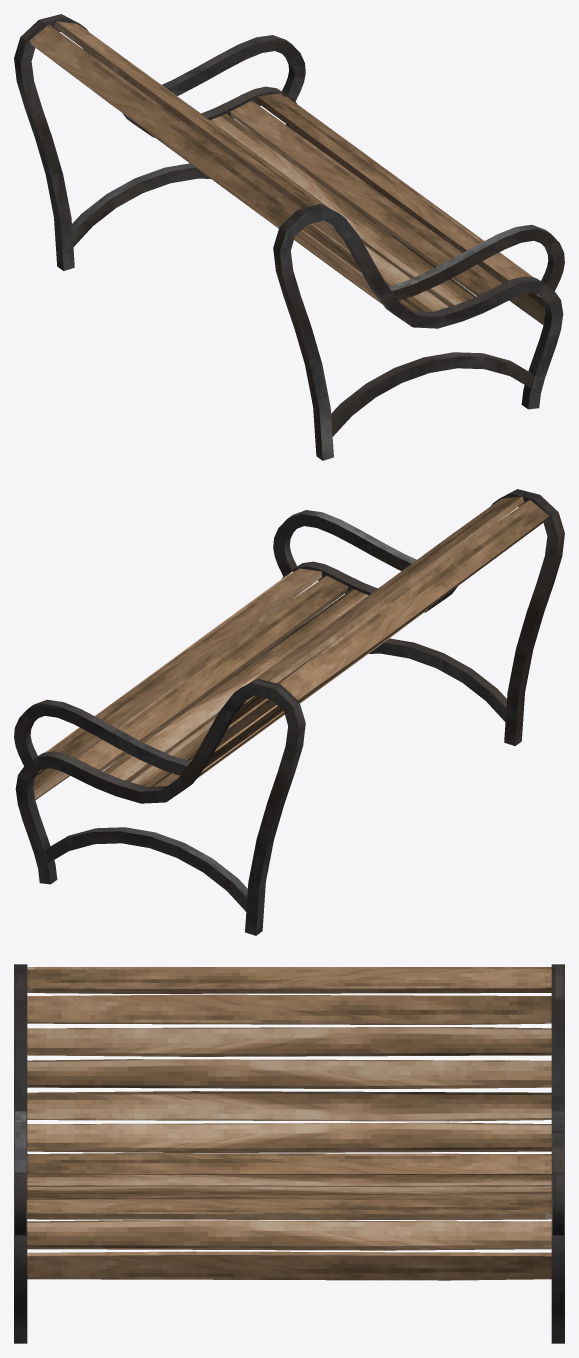
Rendered from Bench01.fbx.
3 views of the same model, one above another, from view 1: azimuth 30°, elevation 25°; view 2: azimuth 150°, elevation 25°; view 3: azimuth 270°, elevation 25° (orthographic). The views are drawn at different scales.
Parts seen in each view (by area): view 1: Bench01; view 2: Bench01; view 3: Bench01.
Part boxes in pixels (x1,y1,x2,y2): Bench01: [14, 14, 564, 460]; Bench01: [14, 489, 564, 935]; Bench01: [14, 964, 564, 1343].
Size of the model in its own units: 127 by 107 by 205.
